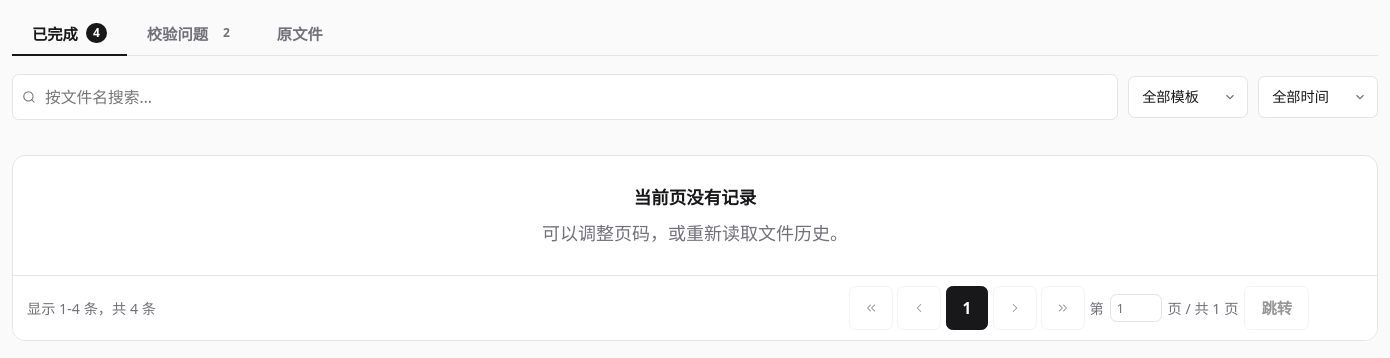
Scenario: HistoryPage request races › shows a filter no-result state instead of the first-run history actions
Type "没有这份文件" into the field labelled "按文件名搜索" at (565, 96), box 12,74 -> 1118,120
Wait 250 ms
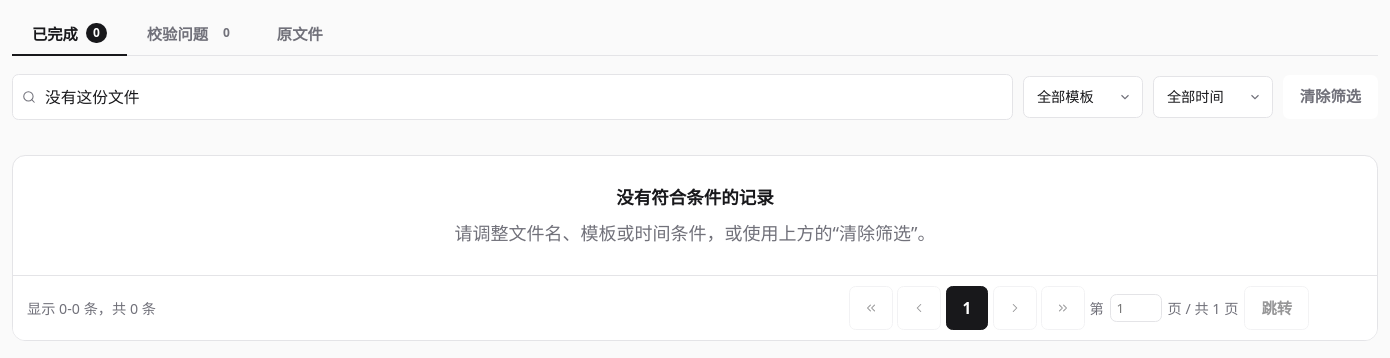
Now the text "没有符合条件的记录" is shown, box 616,184 -> 774,208
Now the button "清除筛选" is shown, box 1283,74 -> 1378,118
Now the button "已完成 0" is shown, box 12,12 -> 127,56
